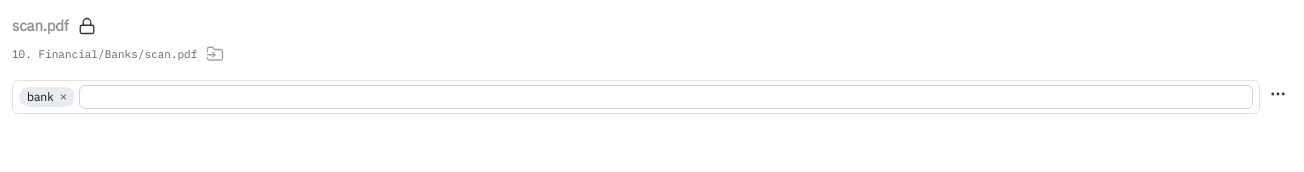
a locked file › an Important file only unlocks for now, and says it locks again
The width and height of the screenshot is (1304, 172).
Click the button named "Unlock" at (86,26), box x1=72 y1=12 x2=100 y2=40
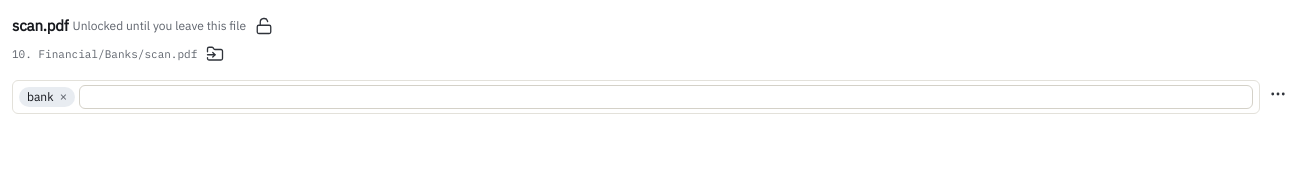
Result: the text "Unlocked until you leave this file" is shown at x1=72 y1=17 x2=246 y2=35
